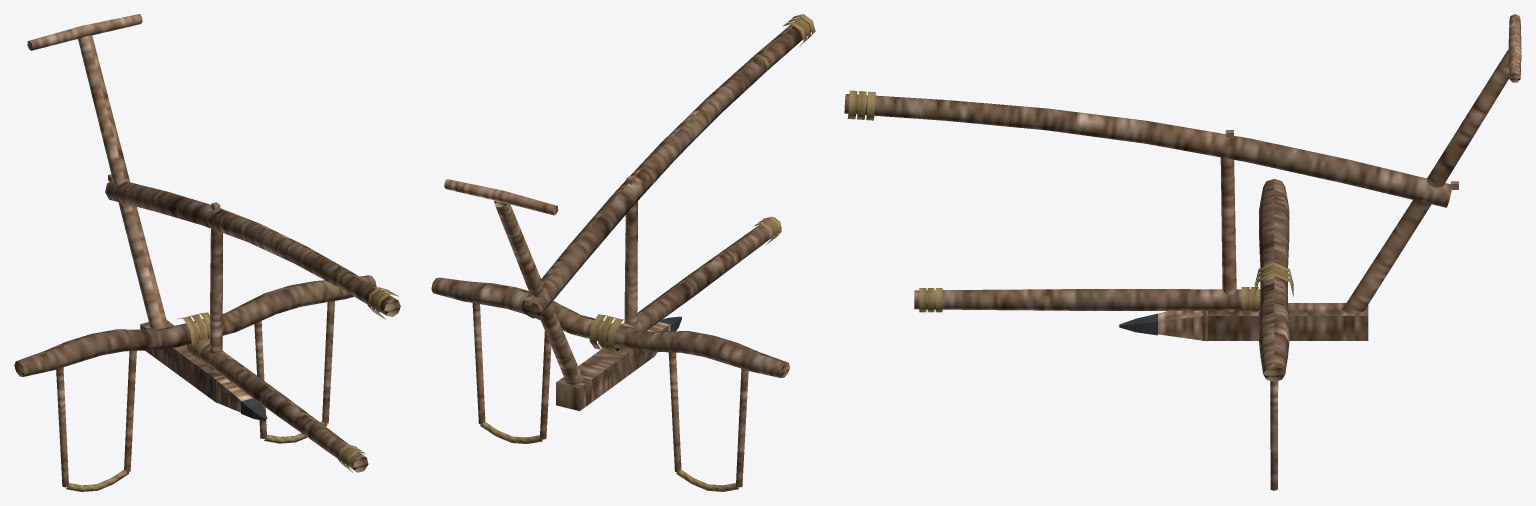
Rendered from ard.glb.
3 renders of one model, left to right at view 1: azimuth 30°, elevation 25°; view 2: azimuth 150°, elevation 25°; view 3: azimuth 270°, elevation 25°, orthographic. The views are drawn at different scales.
Visible parts, largest first — view 1: ard, yoke, pole; view 2: ard, yoke, pole; view 3: ard, pole, yoke.
Part boxes in pixels (box(x1,y1,x2,y2)): ard: box(27, 14, 400, 420); yoke: box(14, 275, 376, 491); pole: box(187, 338, 368, 472); ard: box(444, 14, 815, 410); yoke: box(431, 277, 789, 491); pole: box(605, 216, 781, 353); ard: box(844, 14, 1521, 341); pole: box(914, 287, 1260, 312); yoke: box(1254, 179, 1293, 490).
Size of the model in its own units: 1.6 by 1.56 by 2.45.
1 material, 1 textured.
